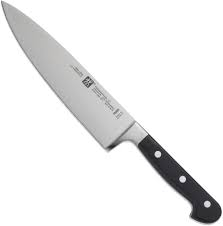knife: (1, 1, 220, 223)
